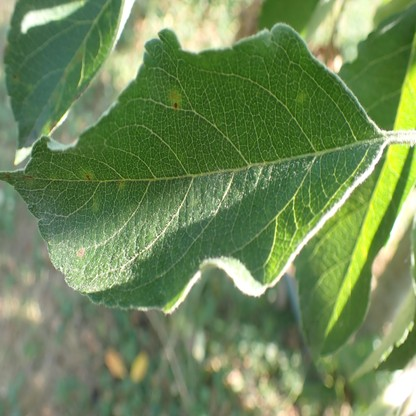scab: (41, 48, 82, 136), (4, 171, 35, 184), (167, 85, 181, 108), (81, 167, 95, 182), (91, 197, 99, 212), (115, 179, 124, 190), (297, 91, 306, 102)
